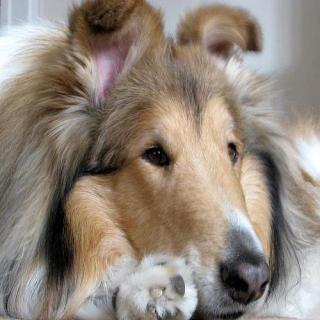dog: (45, 2, 281, 315)
nose: (218, 252, 270, 306)
